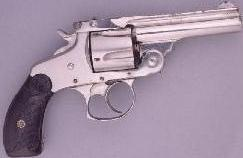gun: (1, 1, 243, 158)
